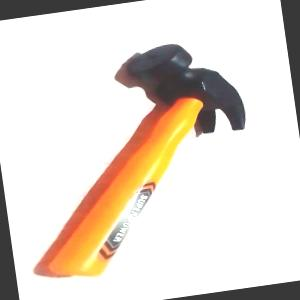martelo: (20, 33, 267, 283)
